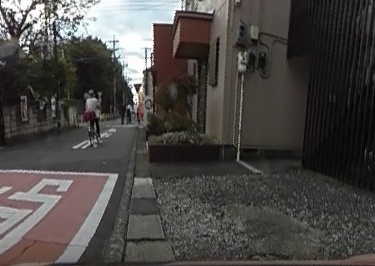person: (81, 87, 101, 140)
